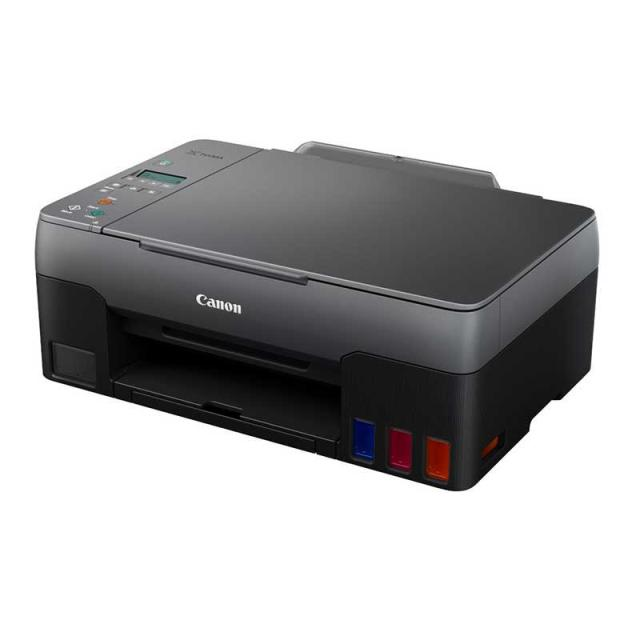printer: (34, 137, 600, 492)
